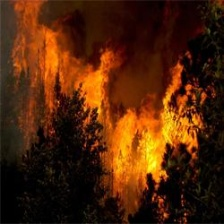fire: (35, 32, 201, 207)
